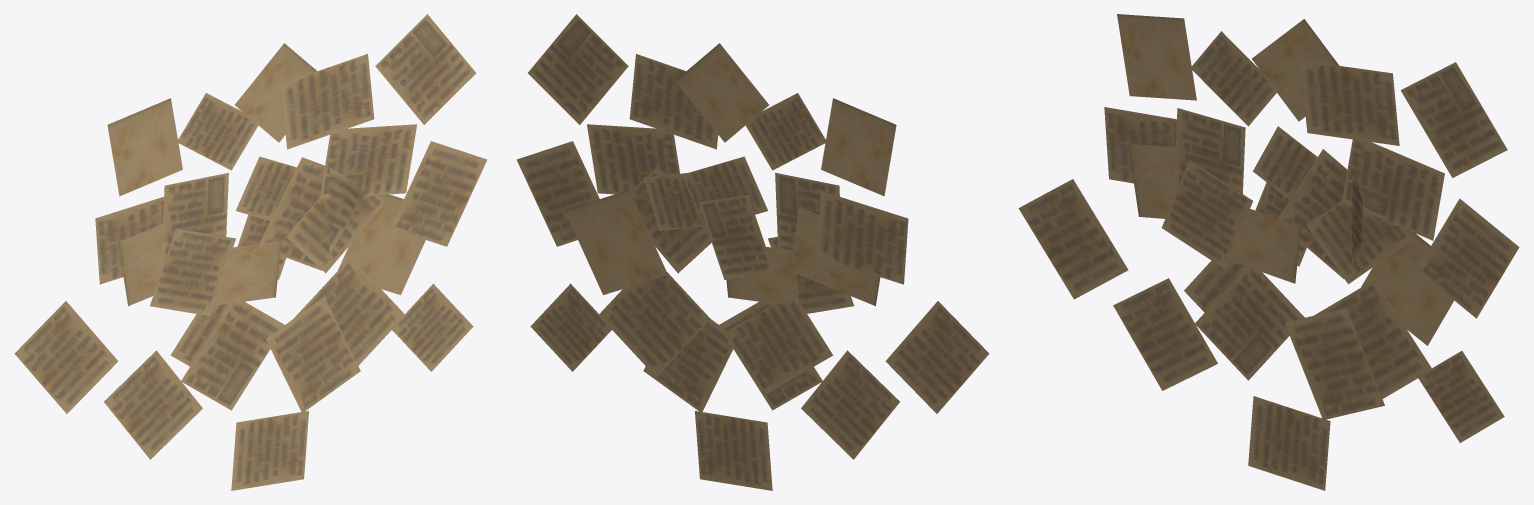
Rendered from pages_set.glb.
3 renders of one model, left to right at view 1: azimuth 30°, elevation 25°; view 2: azimuth 150°, elevation 25°; view 3: azimuth 330°, elevation 25°, orthographic. The views are drawn at different scales.
Parts seen in each view (by area): view 1: scattered_pages.pages_set-MeshSets[pagesScattered_x3_01].Mes, scattered_pages.pages_set-MeshSets[pagesScattered_corner_01], scattered_pages.pages_set-MeshSets[pagesScattered_x1_01].Mes; view 2: scattered_pages.pages_set-MeshSets[pagesScattered_x3_01].Mes, scattered_pages.pages_set-MeshSets[pagesScattered_corner_01], scattered_pages.pages_set-MeshSets[pagesScattered_x1_01].Mes; view 3: scattered_pages.pages_set-MeshSets[pagesScattered_x3_01].Mes, scattered_pages.pages_set-MeshSets[pagesScattered_corner_01], scattered_pages.pages_set-MeshSets[pagesScattered_x1_01].Mes.
Boxes of the visible parts, x1=… form: scattered_pages.pages_set-MeshSets[pagesScattered_x3_01].Mes: x1=104, y1=14, x2=487, y2=459; scattered_pages.pages_set-MeshSets[pagesScattered_corner_01]: x1=14, y1=157, x2=365, y2=490; scattered_pages.pages_set-MeshSets[pagesScattered_x1_01].Mes: x1=237, y1=214, x2=286, y2=279; scattered_pages.pages_set-MeshSets[pagesScattered_x3_01].Mes: x1=516, y1=14, x2=899, y2=459; scattered_pages.pages_set-MeshSets[pagesScattered_corner_01]: x1=643, y1=191, x2=989, y2=490; scattered_pages.pages_set-MeshSets[pagesScattered_x1_01].Mes: x1=643, y1=173, x2=773, y2=279; scattered_pages.pages_set-MeshSets[pagesScattered_x3_01].Mes: x1=1113, y1=14, x2=1519, y2=442; scattered_pages.pages_set-MeshSets[pagesScattered_corner_01]: x1=1018, y1=107, x2=1384, y2=490; scattered_pages.pages_set-MeshSets[pagesScattered_x1_01].Mes: x1=1255, y1=182, x2=1306, y2=266.
Bounding box in the file's own units: 3.67 × 3.27 × 0.1712.
1 material, 1 textured.
